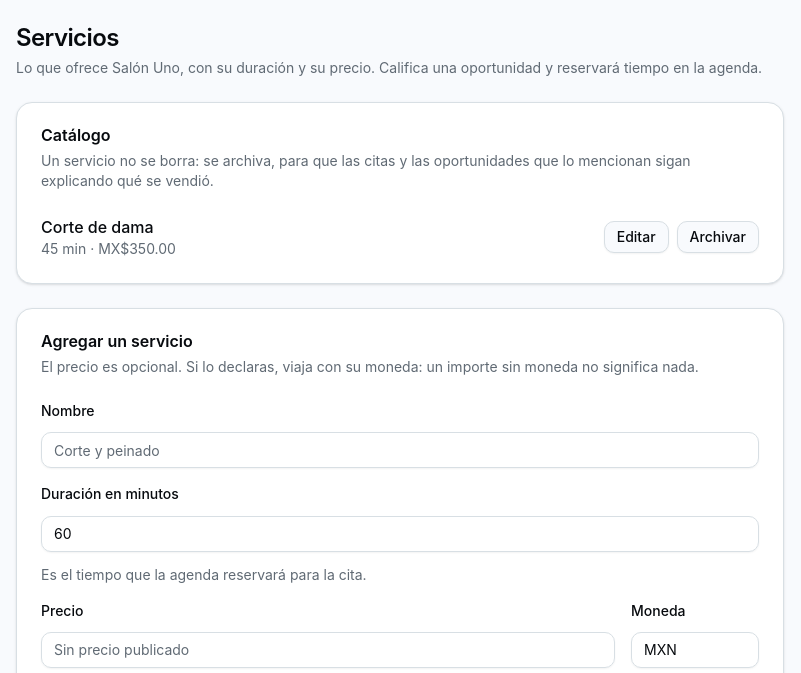
Test: sección de servicios › muestra el conflicto de versión sin perder lo escrito
Click the button "Editar" at (636, 237), box [604,221,668,253]
(page scrolled)
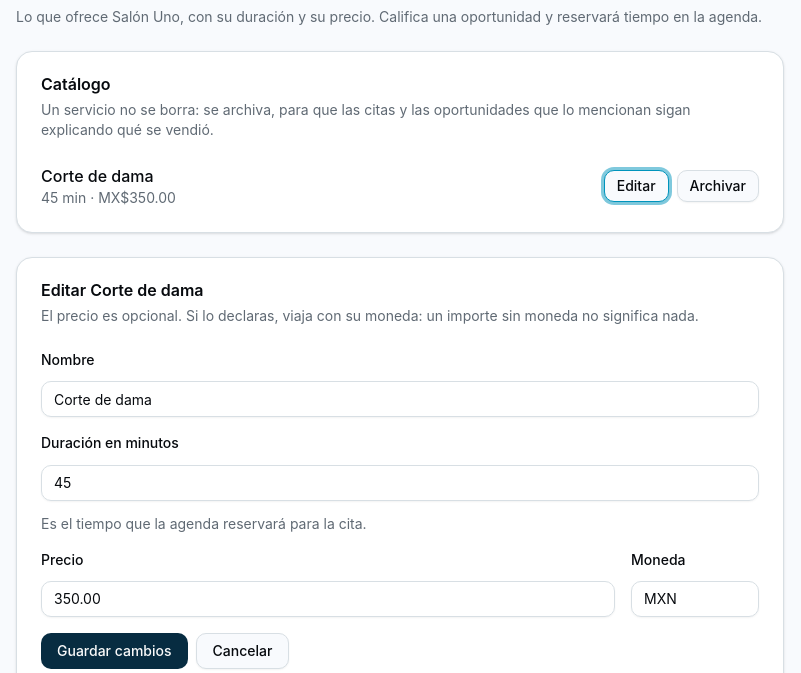
Click the button "Guardar cambios" at (114, 651), box [41,633,188,669]
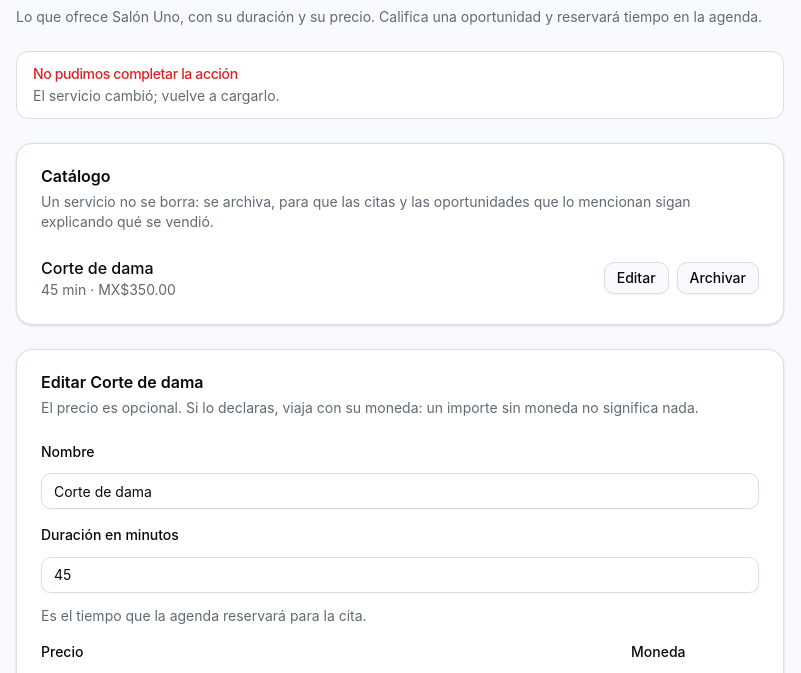
Expected: the field labelled "Nombre" holds "Corte de dama", [41,473,759,509]
Expected: the text "El servicio cambió; vuelve a cargarlo." is shown, [33,87,280,104]
